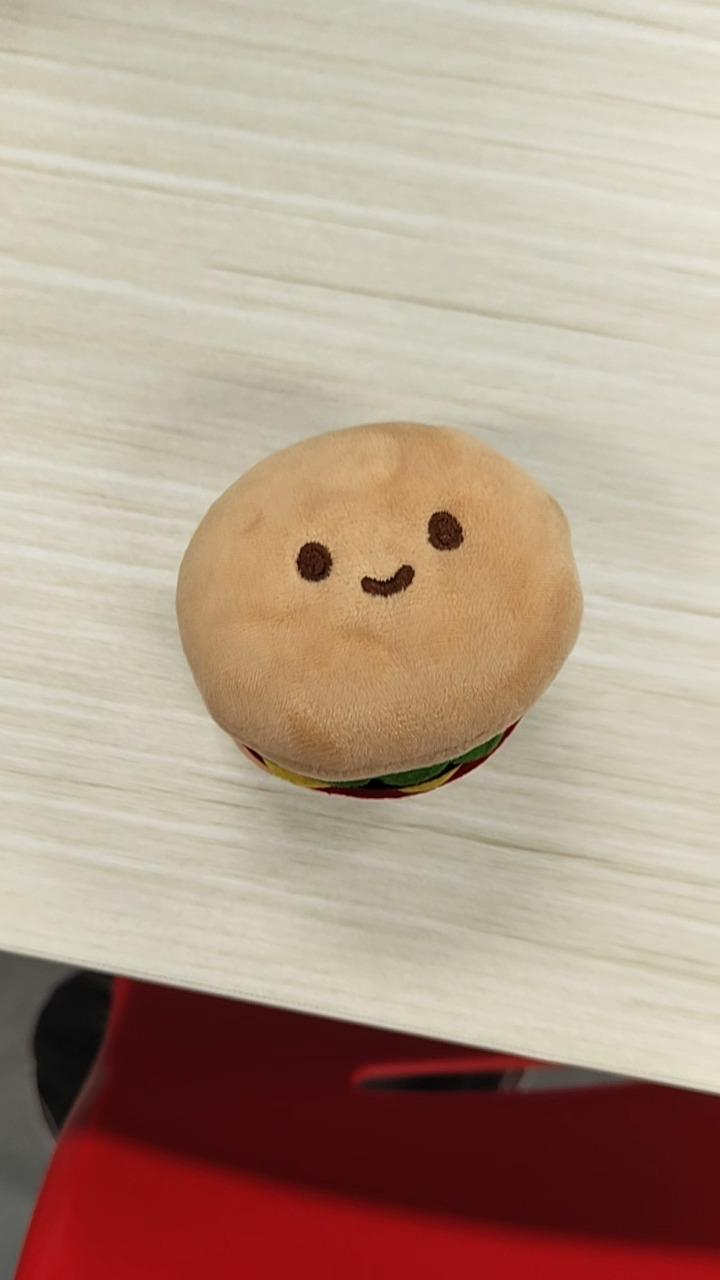hamburger: (173, 418, 584, 801)
